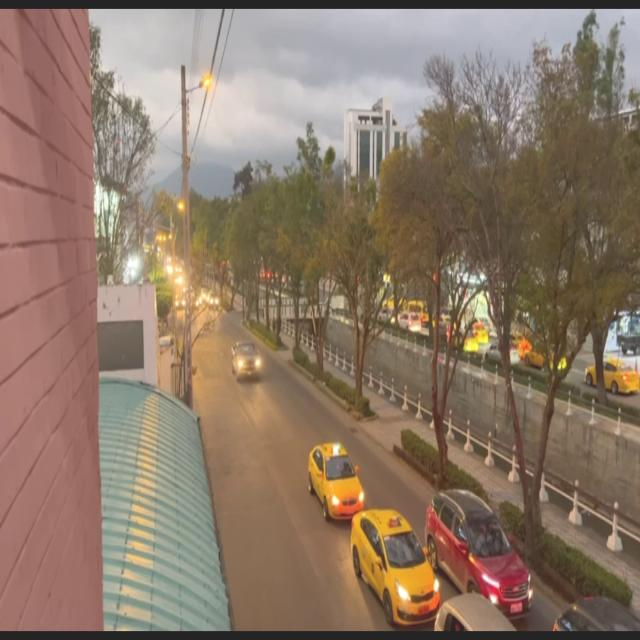CMT: (231, 345, 259, 380)
SED: (352, 514, 436, 625), (311, 446, 364, 520)
SUV: (432, 494, 532, 616)
